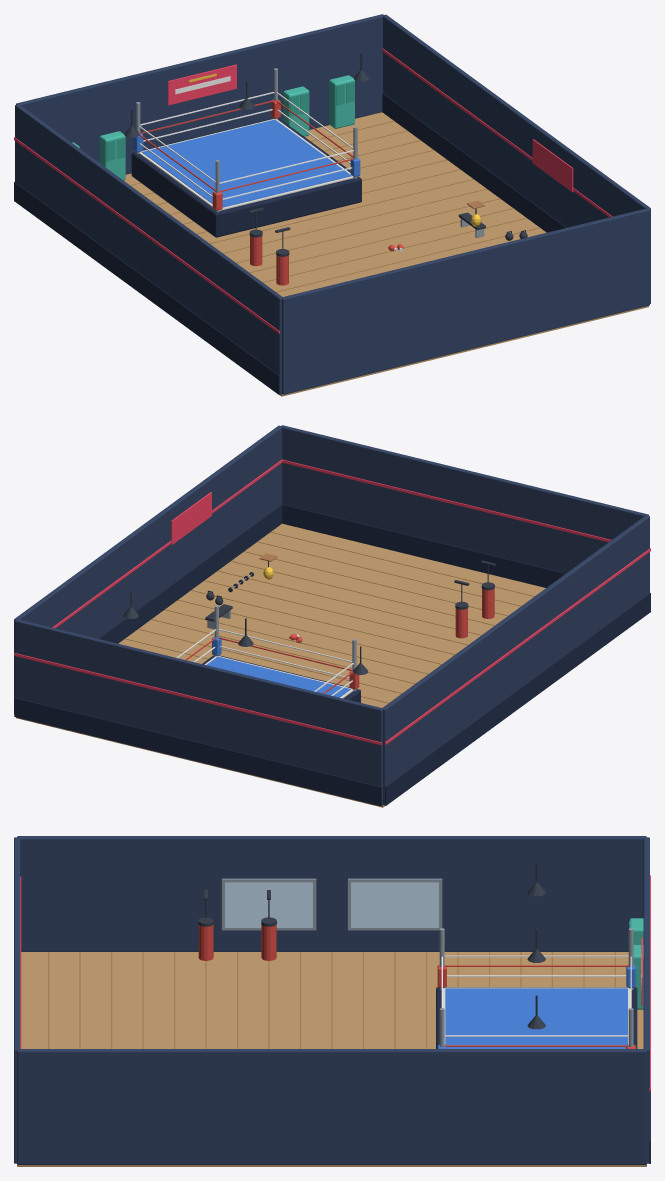
The model's file is Boxing_World.fbx.
3 views of the same model, one above another, from view 1: azimuth 30°, elevation 25°; view 2: azimuth 150°, elevation 25°; view 3: azimuth 270°, elevation 25° (orthographic). The views are drawn at different scales.
Visible parts, largest first — view 1: Wall.004, Floor.001, Wall.002, Wall.001, Wall.003, Ring.001, Banner.001, Locker.004, Banner.002, Locker.002, Locker.003, PunchingBag.001 (+1 smaller); view 2: Floor.001, Wall.001, Wall.004, Wall.002, Wall.003, Ring.001, Banner.002, PunchingBag.001, PunchingBag.002; view 3: Wall.003, Wall.002, Floor.001, Ring.001, Mirror.002, Mirror.001, Wall.001, Wall.004, PunchingBag.001, PunchingBag.002.
Boxes of the visible parts, left/top/right/bottom form: Wall.004: left=282, top=208, right=649, bottom=394; Floor.001: left=124, top=112, right=648, bottom=396; Wall.002: left=14, top=104, right=282, bottom=394; Wall.001: left=16, top=14, right=383, bottom=174; Wall.003: left=382, top=14, right=650, bottom=303; Ring.001: left=131, top=68, right=361, bottom=237; Banner.001: left=167, top=64, right=236, bottom=105; Locker.004: left=329, top=75, right=354, bottom=128; Banner.002: left=532, top=139, right=573, bottom=192; Locker.002: left=99, top=131, right=125, bottom=180; Locker.003: left=283, top=86, right=309, bottom=136; PunchingBag.001: left=248, top=207, right=263, bottom=266; Floor.001: left=16, top=523, right=545, bottom=807; Wall.001: left=14, top=619, right=382, bottom=806; Wall.004: left=281, top=425, right=648, bottom=587; Wall.002: left=382, top=515, right=650, bottom=805; Wall.003: left=14, top=425, right=282, bottom=714; Ring.001: left=176, top=605, right=360, bottom=702; Banner.002: left=171, top=492, right=211, bottom=544; PunchingBag.001: left=454, top=580, right=469, bottom=638; PunchingBag.002: left=480, top=560, right=495, bottom=618; Wall.003: left=17, top=1049, right=646, bottom=1164; Wall.002: left=17, top=836, right=646, bottom=951; Floor.001: left=17, top=952, right=646, bottom=1166; Ring.001: left=436, top=928, right=637, bottom=1048; Mirror.002: left=347, top=878, right=442, bottom=930; Mirror.001: left=221, top=878, right=316, bottom=930; Wall.001: left=643, top=837, right=650, bottom=1163; Wall.004: left=14, top=837, right=21, bottom=1163; PunchingBag.001: left=261, top=890, right=276, bottom=960; PunchingBag.002: left=198, top=890, right=213, bottom=960.
Size of the model in its own units: 16.23 by 4.6 by 20.23.
